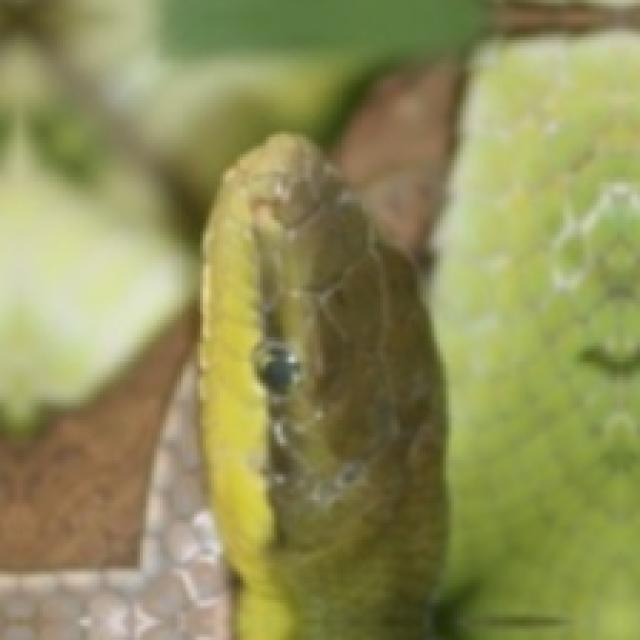red-tailed green ratsnake: (432, 34, 640, 639), (200, 134, 443, 637), (0, 361, 228, 639)
